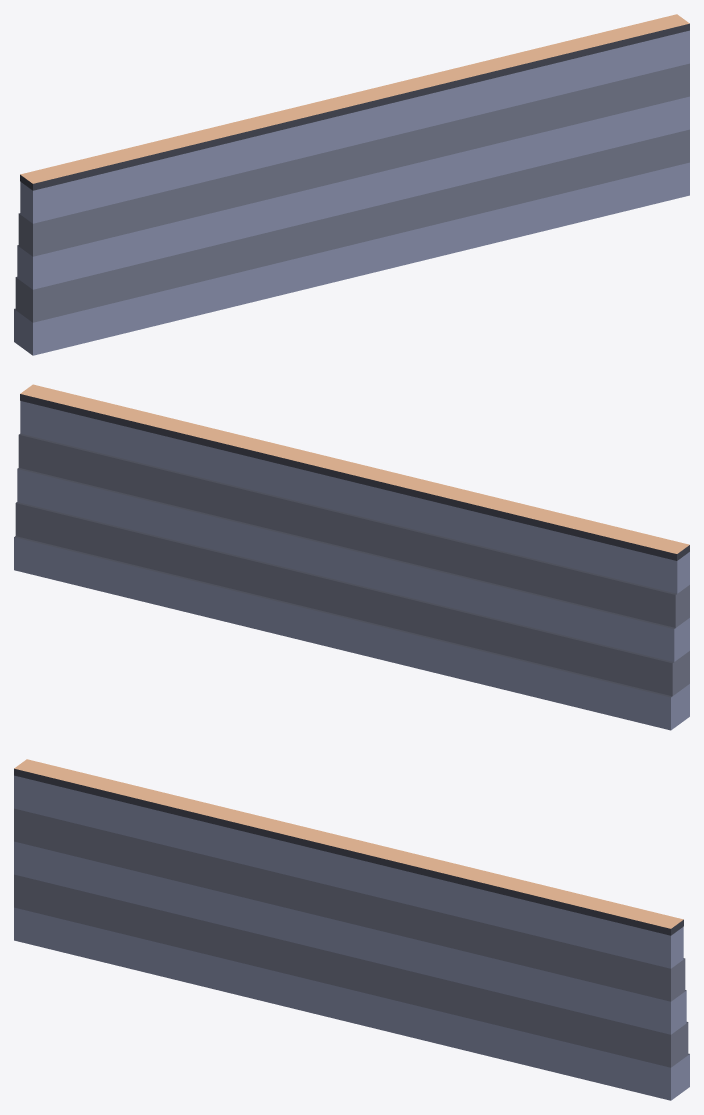
Rendered from mur-soutenement.glb.
3 views of the same model, one above another, from view 1: azimuth 30°, elevation 25°; view 2: azimuth 150°, elevation 25°; view 3: azimuth 330°, elevation 25° (orthographic).
Visible parts, largest first — view 1: mur-soutenement; view 2: mur-soutenement; view 3: mur-soutenement.
Boxes of the visible parts, <box> form: mur-soutenement: <box>14,14,689,355</box>; mur-soutenement: <box>14,384,689,730</box>; mur-soutenement: <box>14,759,689,1100</box>.
Bounding box in the file's own units: 1 × 0.25 × 0.05.
1 material, 1 textured.
